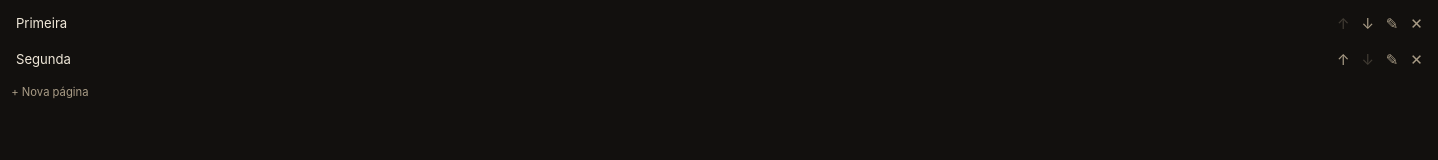
Test: PainelDePaginas › renomear age na SEGUNDA de duas páginas, sem tocar na primeira
The image size is (1438, 160).
Expected: the button "Primeira" is shown, [12, 12, 1328, 35]
Click the button named "Renomear Segunda". click: coordinates (1392, 59)
box: [1381, 48, 1403, 70]
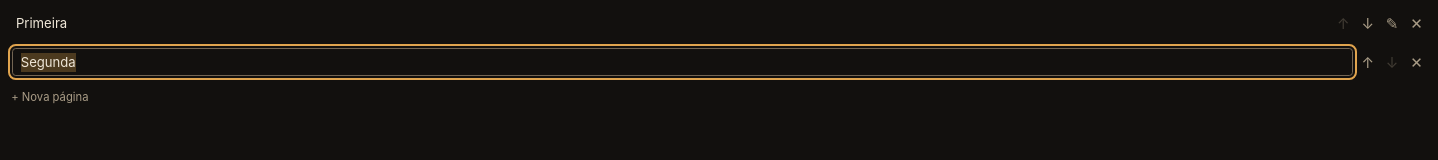
Replace the text in the field named "Nome da página Segunda" with "Segunda Renomeada". click: coordinates (683, 62)
box: [12, 48, 1353, 76]
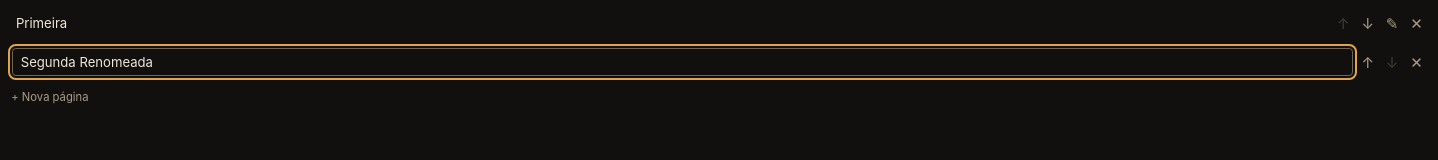
Press Enter
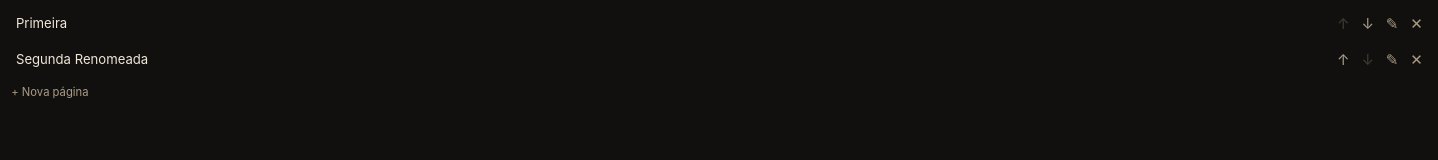
Expected: the button "Primeira" is shown, [12, 12, 1328, 35]
Expected: the button "Segunda Renomeada" is shown, [12, 48, 1328, 70]
